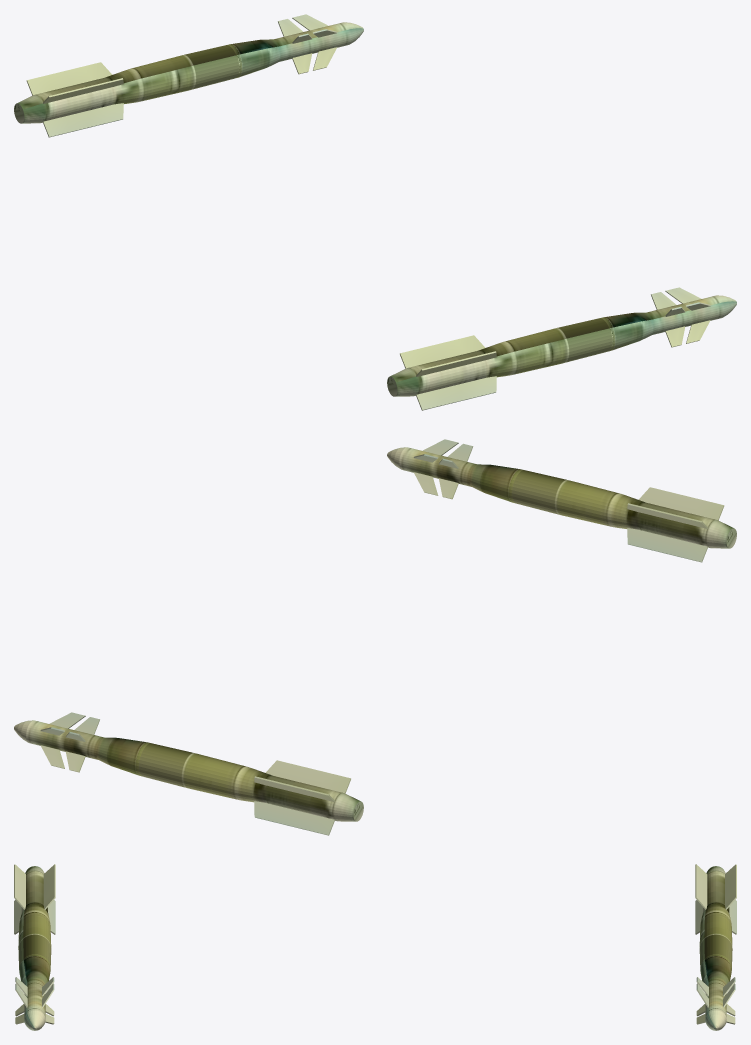
File: m20daasm17.glb
3 renders of one model, top to bottom at view 1: azimuth 30°, elevation 25°; view 2: azimuth 150°, elevation 25°; view 3: azimuth 270°, elevation 25°, orthographic. The views are drawn at different scales.
Parts seen in each view (by area): view 1: 円柱.004, 円柱.010; view 2: 円柱.004, 円柱.010; view 3: 円柱.004, 円柱.010.
Part boxes in pixels (bbox=[...]): 円柱.004: bbox=[387, 287, 736, 410]; 円柱.010: bbox=[14, 14, 363, 137]; 円柱.004: bbox=[387, 439, 736, 562]; 円柱.010: bbox=[14, 712, 363, 835]; 円柱.004: bbox=[14, 864, 55, 1030]; 円柱.010: bbox=[695, 864, 736, 1030].
Size of the model in its own units: 2.32 by 0.267 by 4.62.
Materials: 2 (2 with a texture image).
